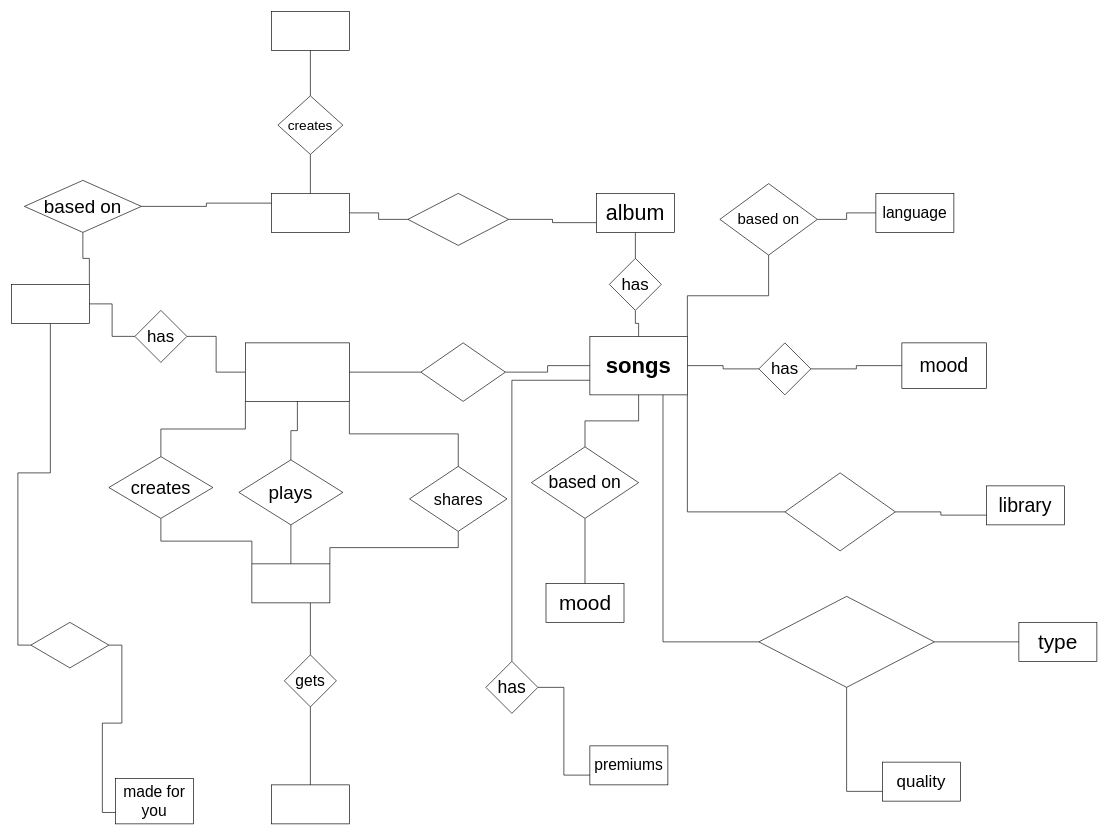
Image size: 1108x835. Some labels were removed from this diagram. The shapes that lost their labels are listed below. From the top down, each one's centre as x and y in pixels, then its label:
At [310,30]: "podcasts".
At [310,212]: "aritst".
At [458,219]: "releases".
At [50,303]: "daily mix".
At [297,371]: "playlist".
At [462,371]: "features".
At [839,511]: "stored in".
At [290,583]: "user".
At [69,645]: "makes".
At [846,641]: "are streamed based on".
At [310,804]: "notification".
